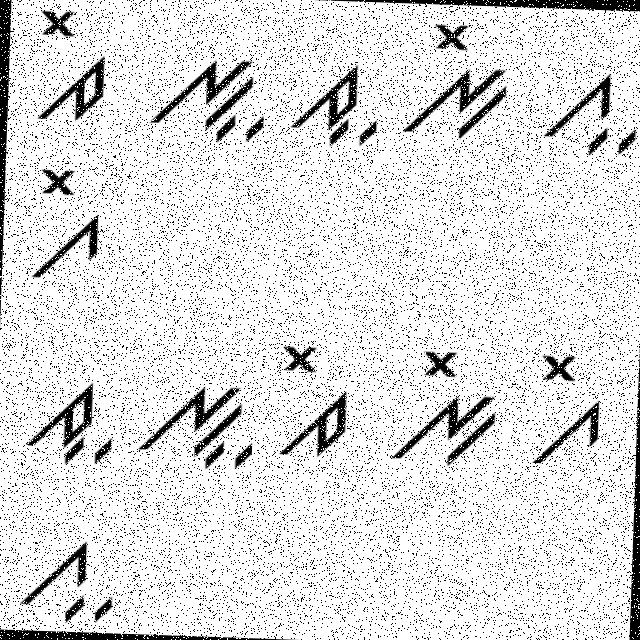gah: (15, 520, 121, 628), (541, 60, 639, 160)
go: (528, 339, 611, 472), (27, 154, 108, 286)
ngah: (137, 371, 256, 472), (149, 46, 268, 146)
ngo: (385, 334, 503, 470), (402, 11, 516, 144)
tah: (21, 367, 120, 468), (285, 54, 385, 152)
to: (20, 0, 111, 128), (276, 334, 356, 461)
